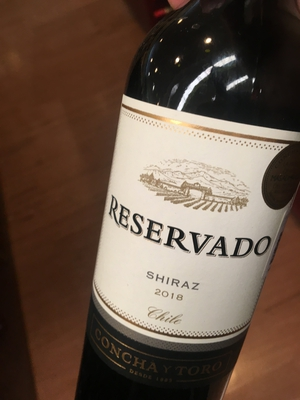reservado shiraz: (83, 28, 291, 400)
